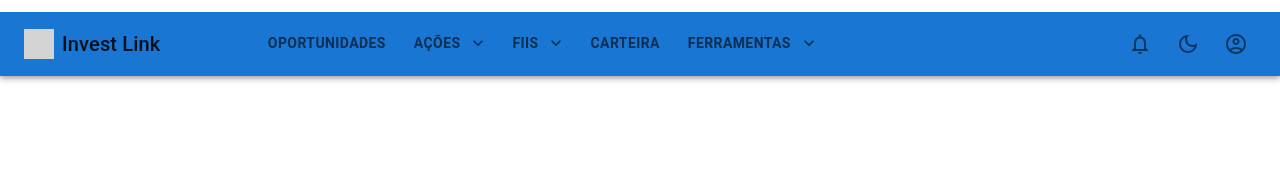
BarraNavegacao › agrupa lista e favoritas dentro do menu de Ações
Step 1. Click the button "Ações" → (449, 44), box x1=402 y1=12 x2=496 y2=76
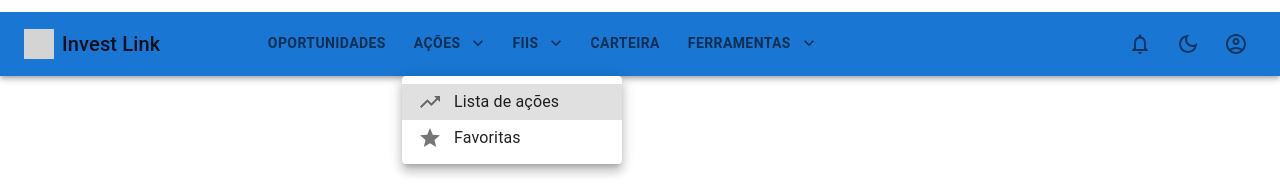
expect the menu item "Lista de ações" is shown: met, box x1=402 y1=84 x2=622 y2=120
expect the menu item "Favoritas" is shown: met, box x1=418 y1=126 x2=521 y2=150
